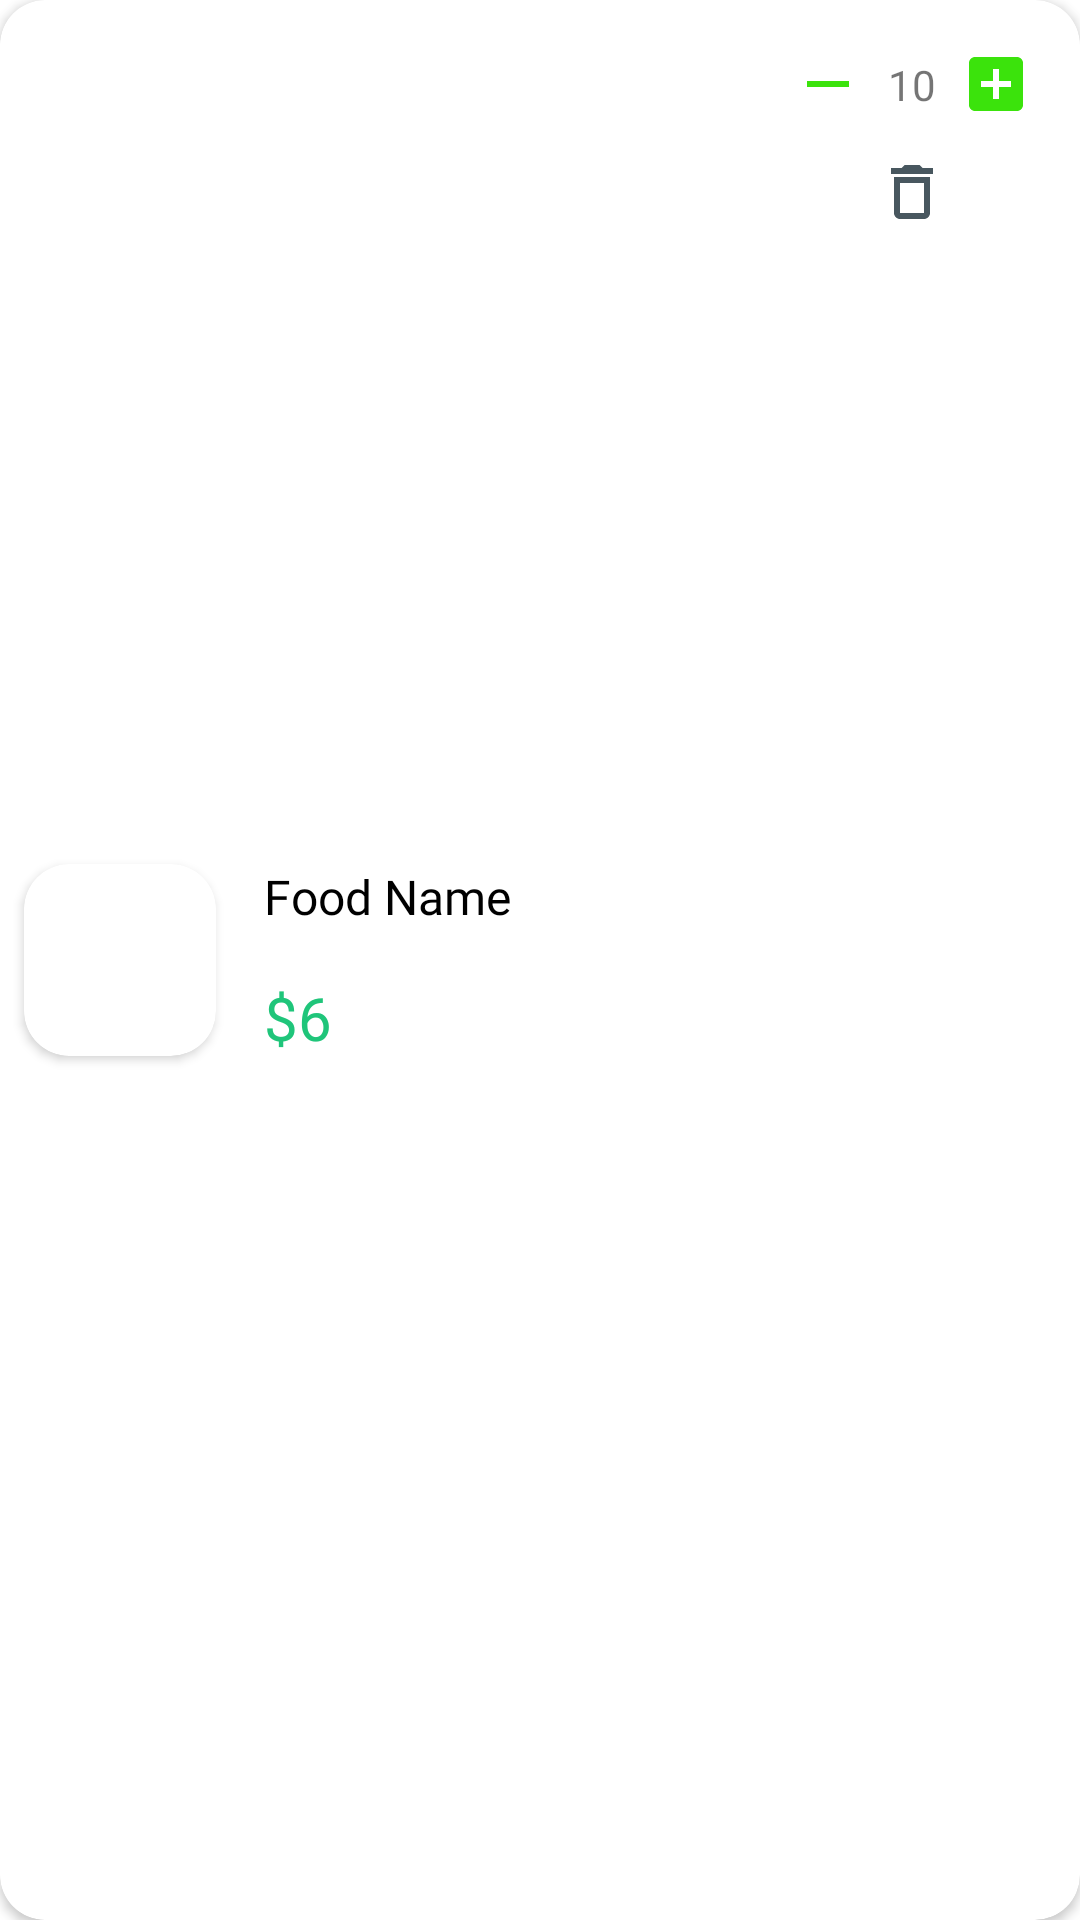

Point at icon controls on the screen. Image size 1080 × 1920, points as (x,y).
add box: (996,84)
delete: (912,192)
